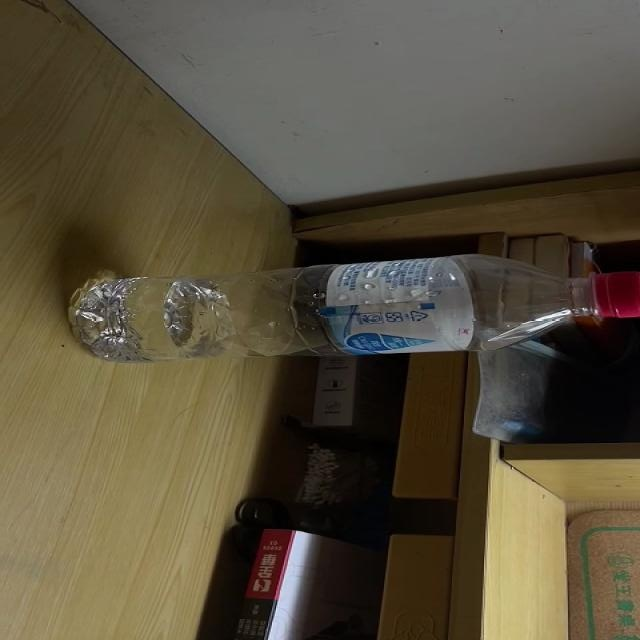Water: (67, 253, 640, 363)
